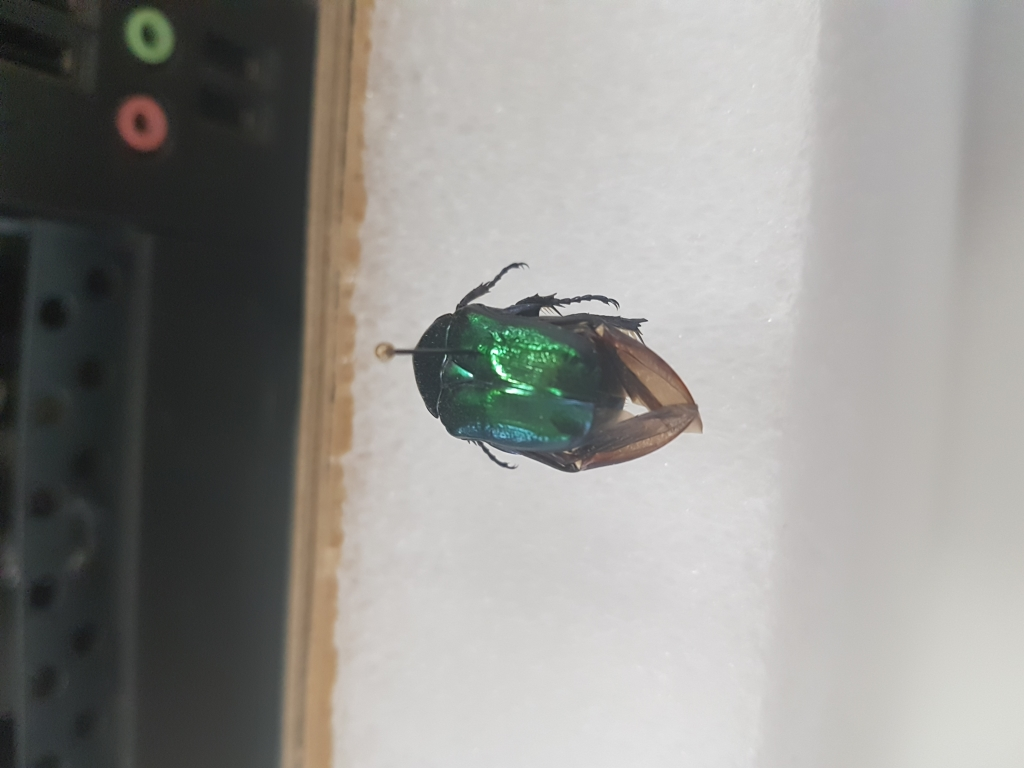Protaetia_angustata_angustata: (409, 244, 711, 493)
